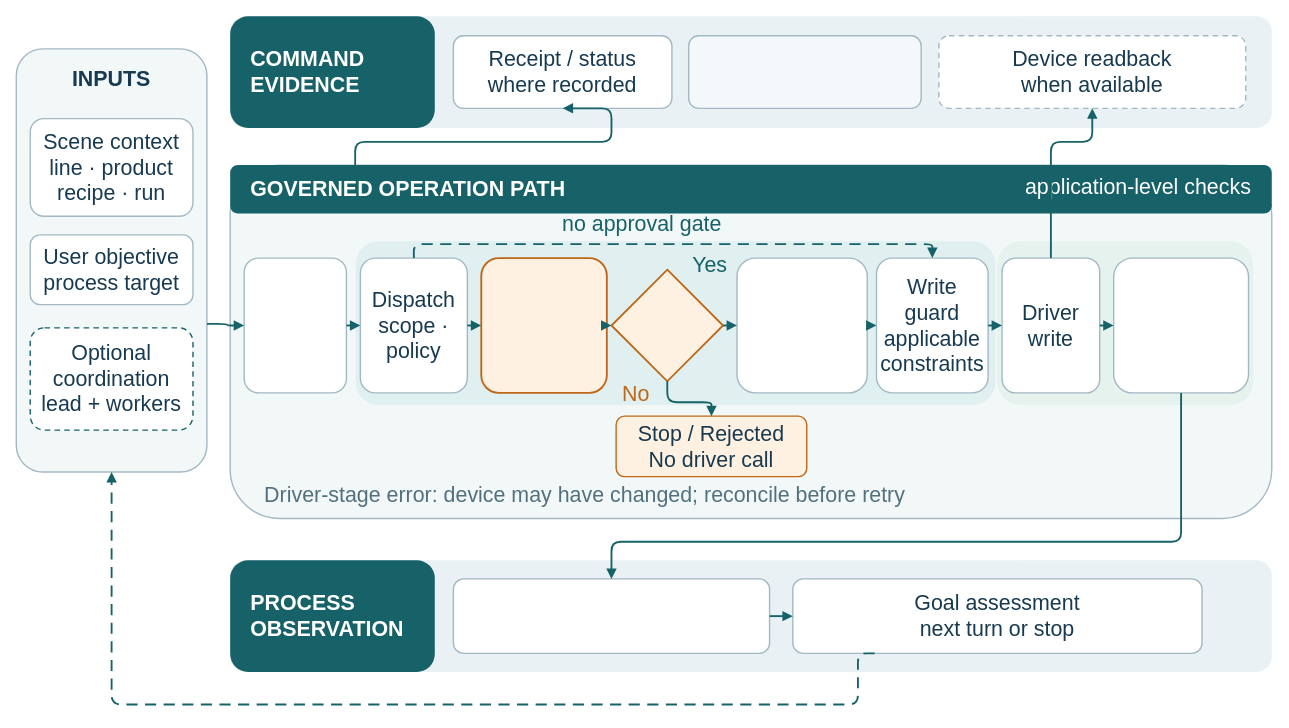
Some shapes in this 1289 by 728 pixel diagram are drawn without their labels. The shapes that lost their labels are listed below. From the top down, each one's centre as x and y in pixels, then its label:
(804,72): Status alone does not confirm device change
(295,325): Propose node / value
(543,325): Conditional approval
(667,325): Approved?
(802,325): Revalidation
(1181,325): Process device / twin
(611,616): DAQ observation when available
